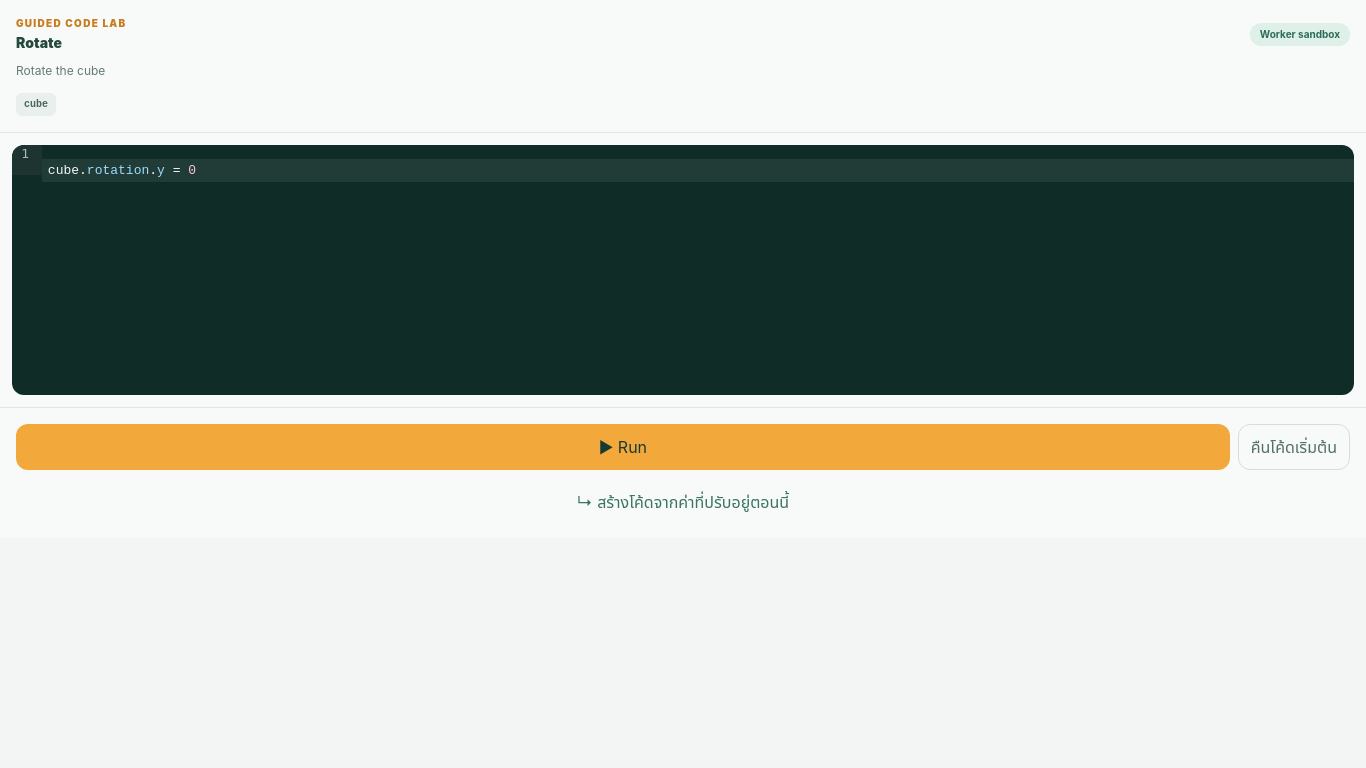
CodeLab › keeps the last preview snapshot when a run fails
Click the button "▶ Run": (623, 447) [16, 424, 1230, 470]
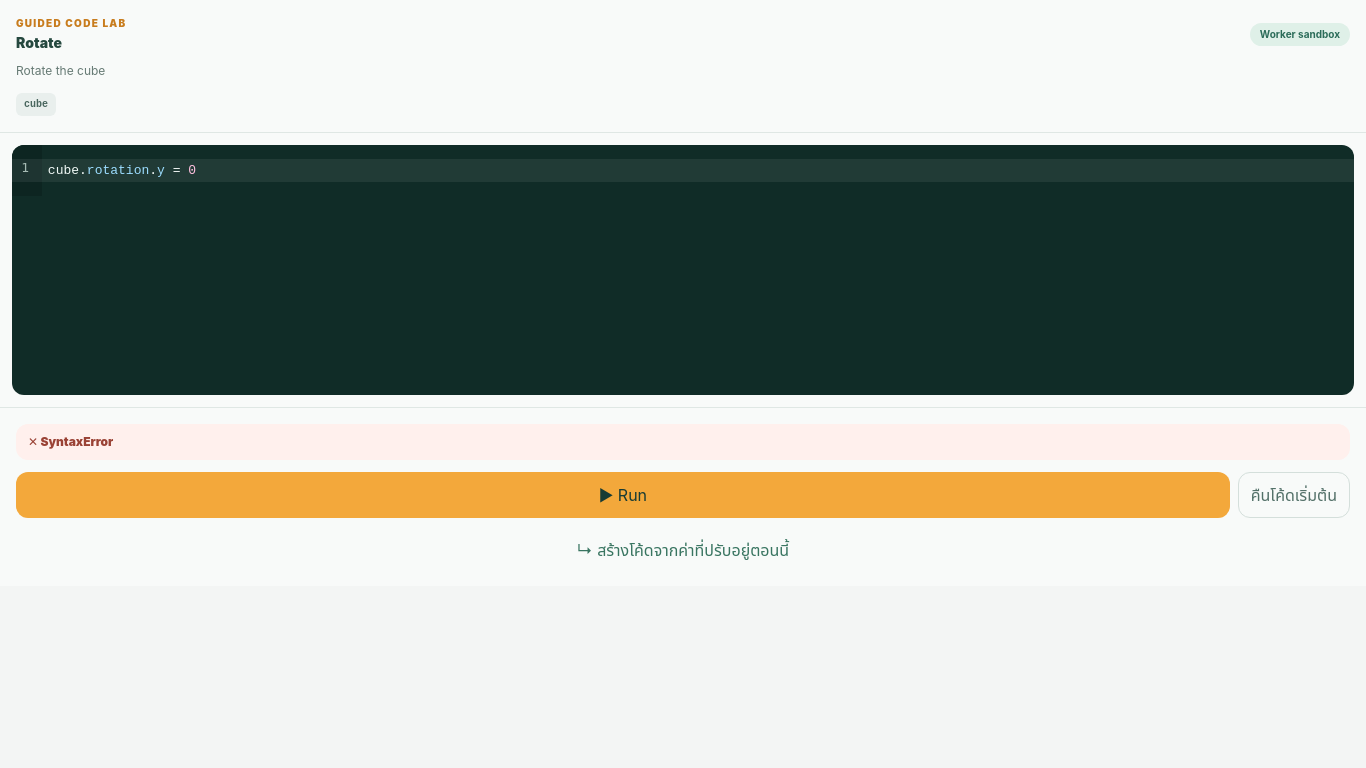
expect the element with test id "code-run-status" shows "SyntaxError": met, box [28, 434, 113, 449]
